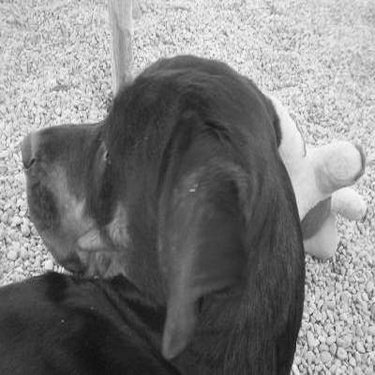dog: (1, 54, 309, 371)
